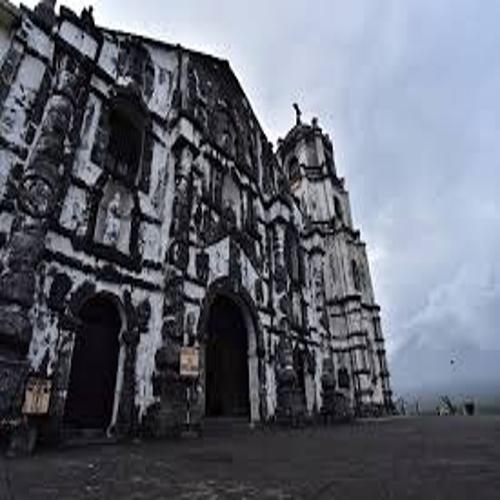Daraga Church: (15, 1, 404, 434)
